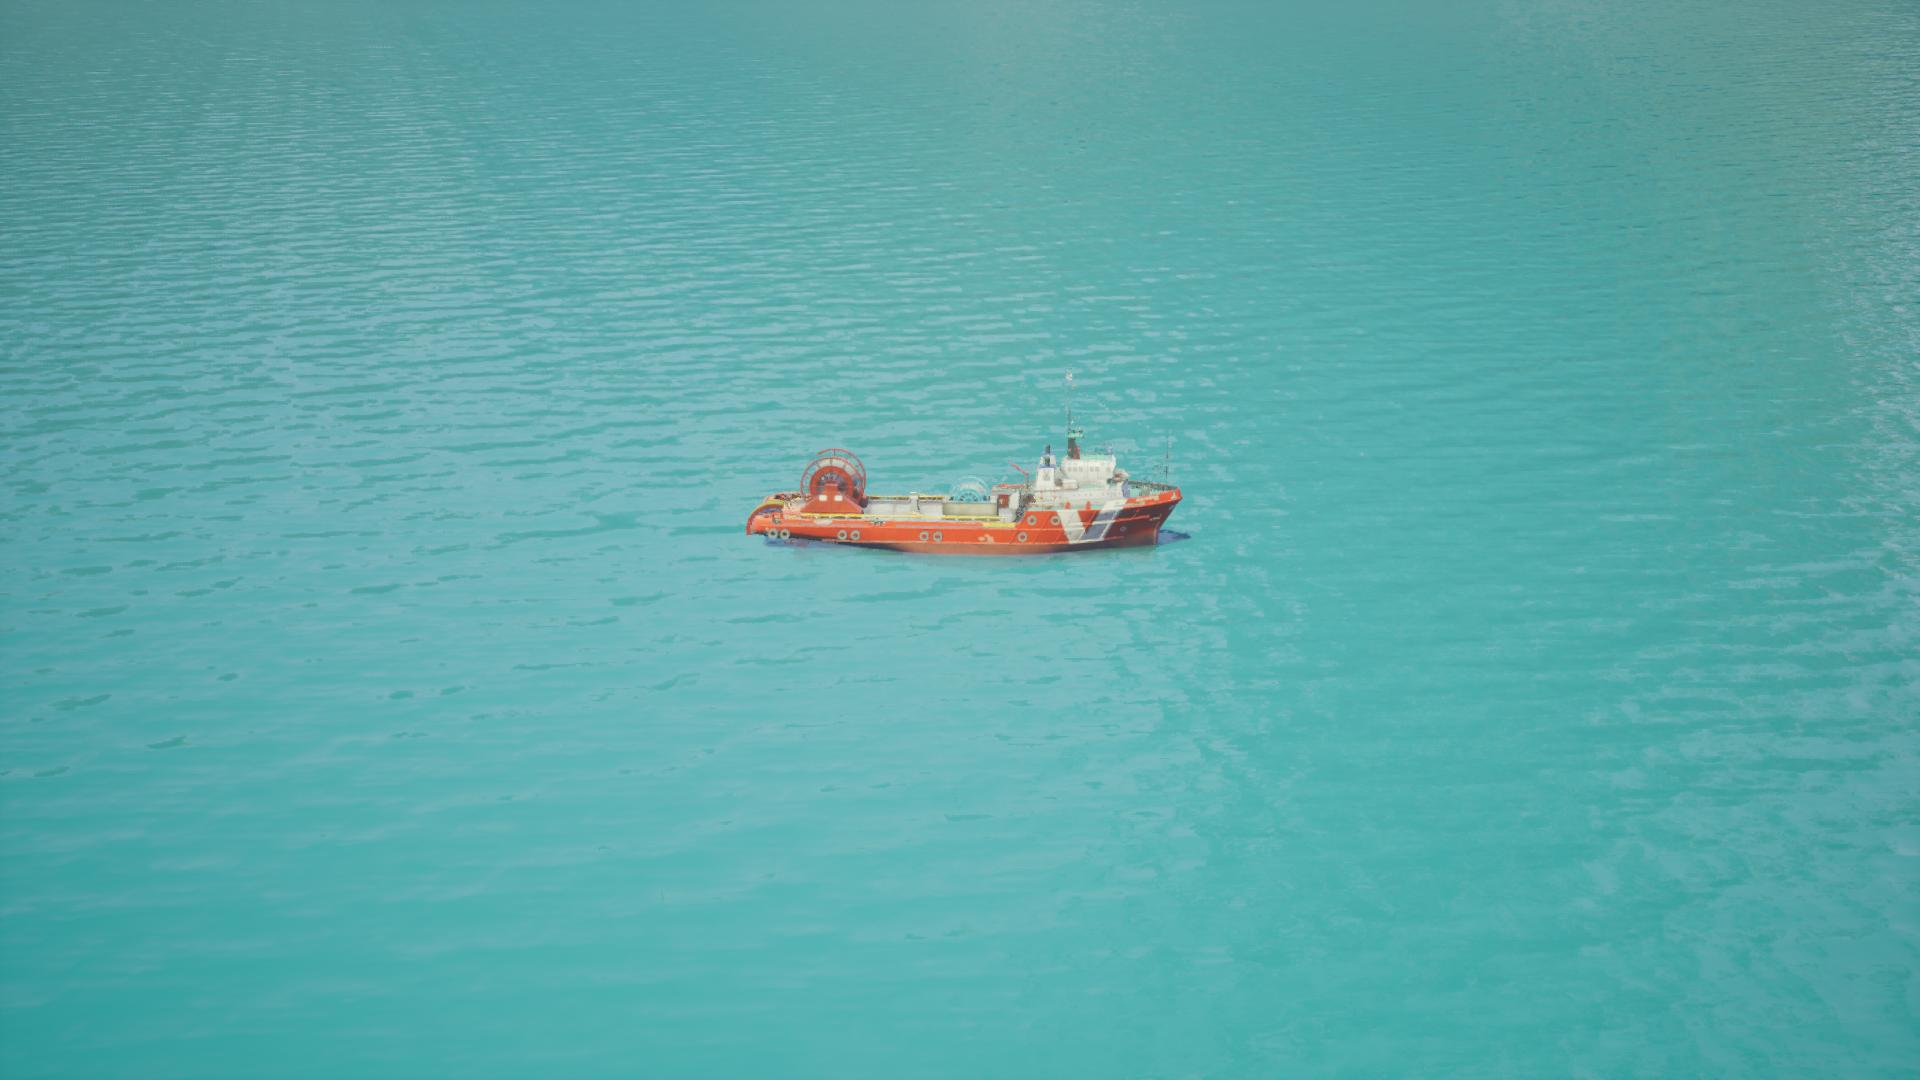Tug Boat: (744, 423, 1188, 560)
